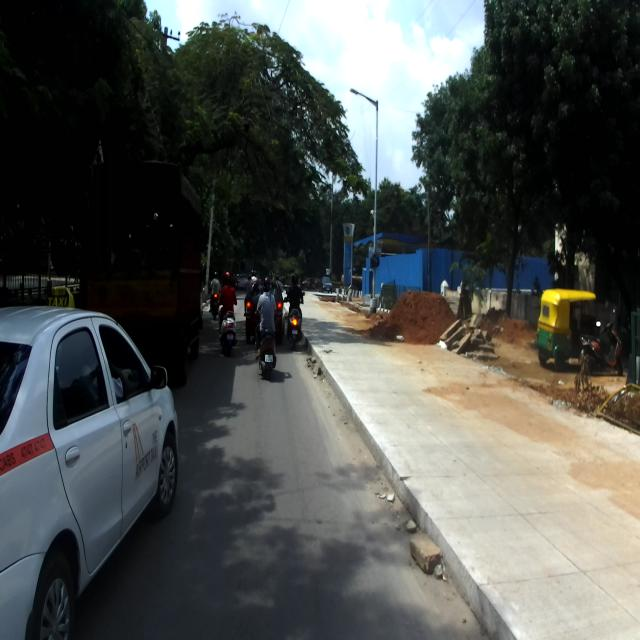auto ahead at: (536, 285, 591, 348)
car ahead at: (0, 297, 182, 627)
stones ahead at: (438, 309, 496, 358)
